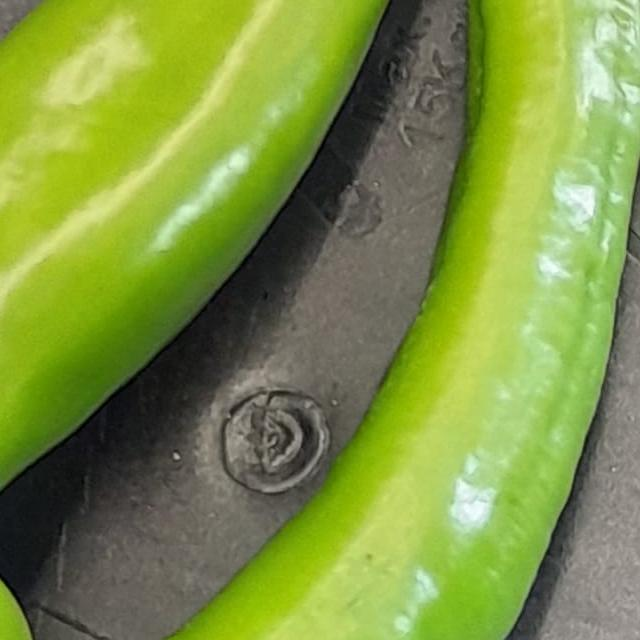chili_pepper: (0, 0, 640, 640), (0, 0, 606, 640)
